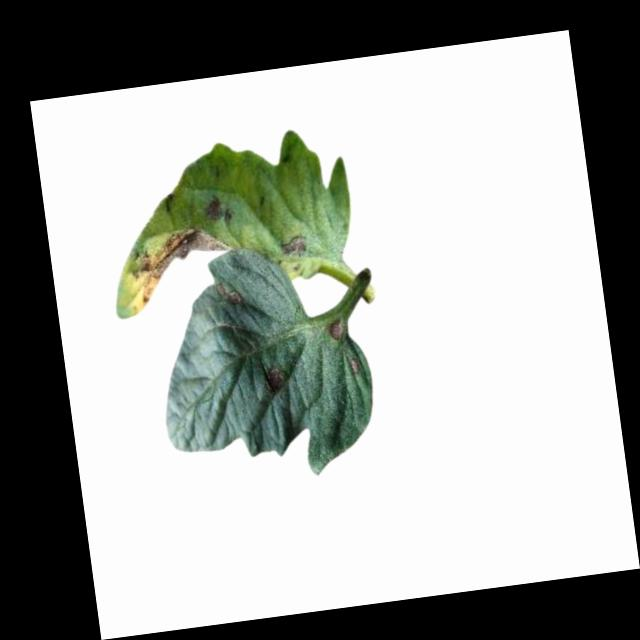Early_blight: (128, 222, 232, 304), (201, 193, 232, 223), (262, 364, 287, 395), (283, 231, 307, 259), (325, 314, 347, 341), (216, 282, 243, 304), (346, 354, 364, 375)
